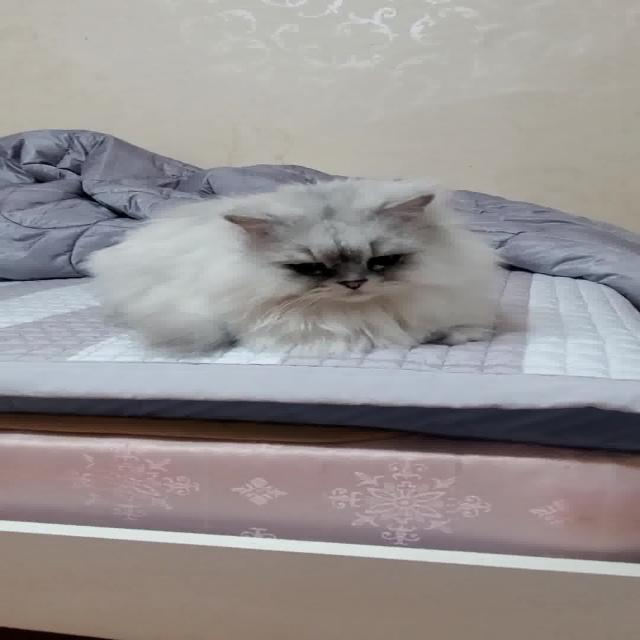cat: (71, 168, 530, 360)
